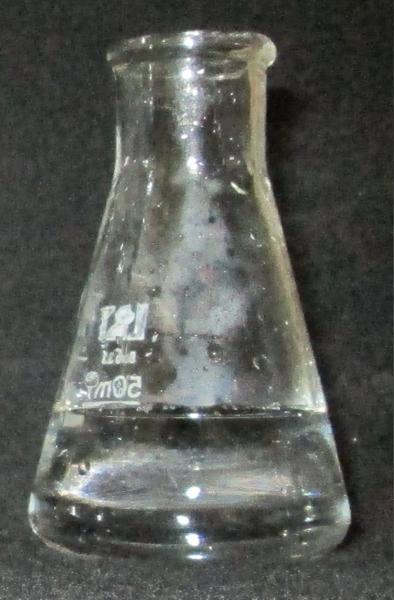Titrarion: (26, 32, 354, 563)
